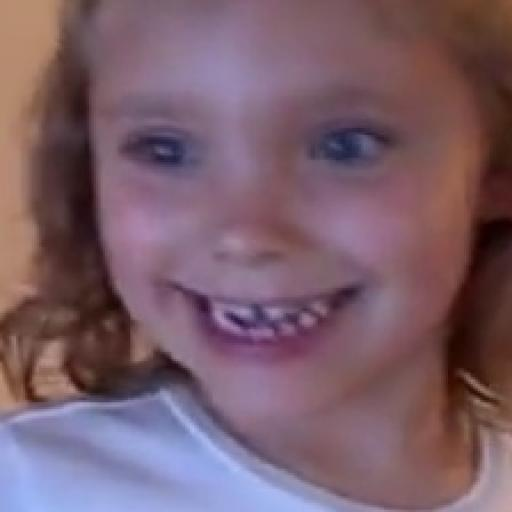Autism: (26, 5, 512, 444)
